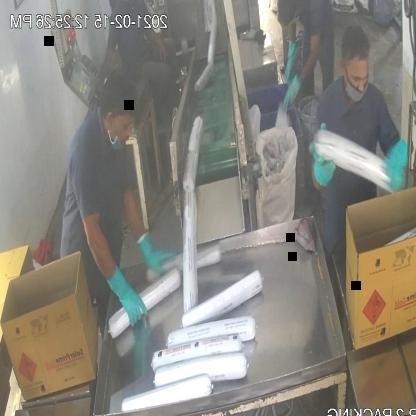glove: (134, 214, 185, 282), (103, 263, 149, 336), (308, 127, 340, 190), (283, 67, 304, 124)
no_glove: (103, 36, 131, 74), (146, 30, 168, 63)
